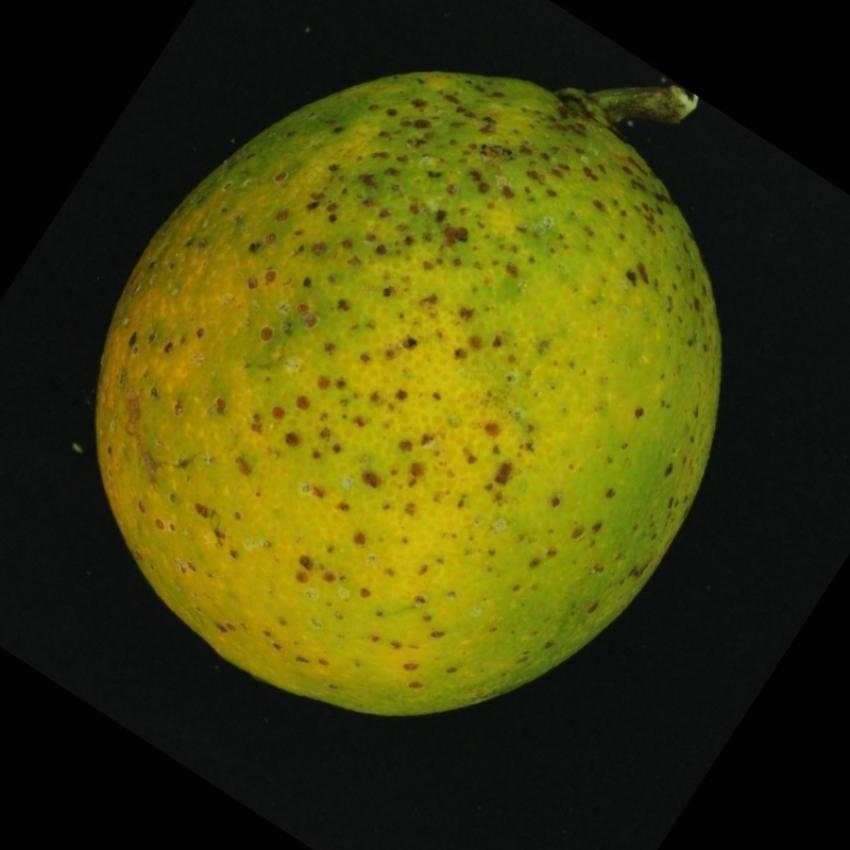Mal estado: (64, 42, 778, 738)
